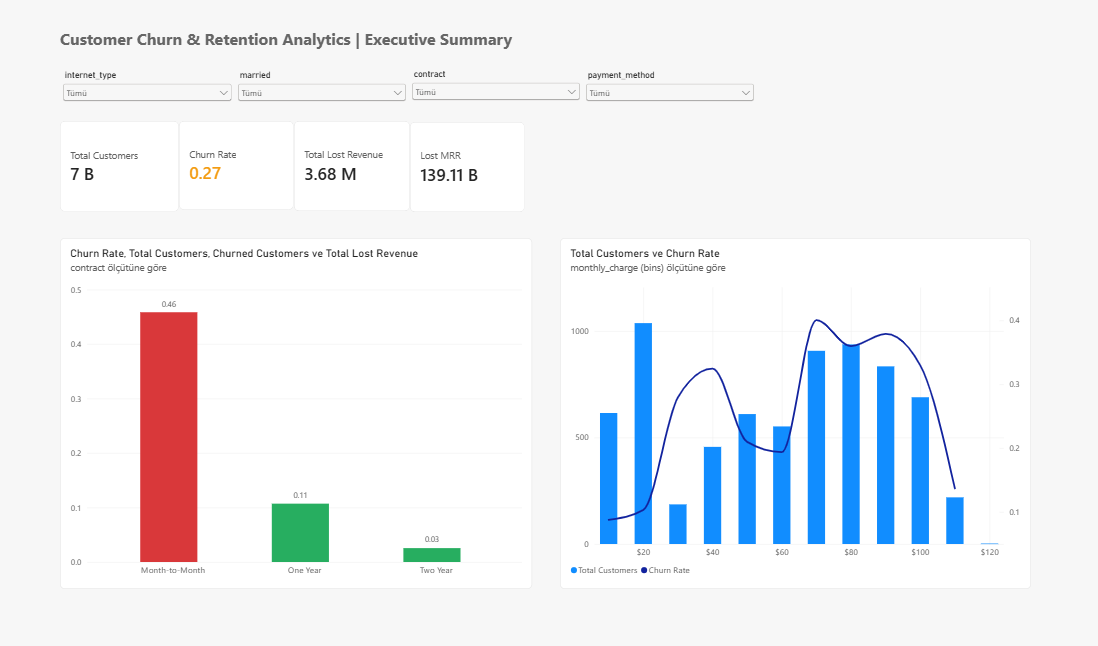

Layout of this report page (visuals, bound fields, positions):
{"tool":"powerbi","page":{"name":"Executive KPI Summary","canvas":[1920,1080],"ordinal":0},"visuals":[{"type":"textbox","box":[106.7,49.1,787.3,57.6],"z":0},{"type":"slicer","fields":{"Values":["public vw_powerbi_telecom_model.contract"]},"box":[688.3,116.7,289.5,86.3],"z":1},{"type":"slicer","fields":{"Values":["public vw_powerbi_telecom_model.internet_type"]},"box":[106.7,118.3,291.2,84.7],"z":2},{"type":"slicer","fields":{"Values":["public vw_powerbi_telecom_model.payment_method"]},"box":[978.3,118.3,290,93.3],"z":3},{"type":"slicer","fields":{"Values":["public vw_powerbi_telecom_model.married"]},"box":[398.3,118.3,289.5,93.1],"z":4},{"type":"cardVisual","fields":{"Data":["_Measures.Total Customers"]},"box":[106.7,203.3,198.3,151.7],"z":5},{"type":"cardVisual","fields":{"Data":["_Measures.Total Lost Revenue"]},"box":[496.7,203.3,193,150.7],"z":6},{"type":"cardVisual","fields":{"Data":["_Measures.Churn Rate"]},"box":[304.7,203.7,191.3,149],"z":7},{"type":"cardVisual","fields":{"Data":["_Measures.Lost MRR"]},"box":[690,205,191.3,150.7],"z":8},{"type":"columnChart","fields":{"Category":["public vw_powerbi_telecom_model.contract"],"Y":["_Measures.Churn Rate"]},"box":[106.7,398.3,786.7,585],"z":9},{"type":"lineStackedColumnComboChart","fields":{"Category":["public vw_powerbi_telecom_model.monthly_charge (bins)"],"Y":["_Measures.Total Customers"],"Y2":["_Measures.Churn Rate"]},"box":[940,398.3,785,585],"z":10}]}

Visuals, with their boxes on the page's 1920x1080 design canvas (x1, y1, x2, y2). These are canvas units, not pixel positions in the 1098x646 screenshot, which may show the page scaled, cropped or inside an application window:
textbox: (x1=107, y1=49, x2=894, y2=107)
slicer - public vw_powerbi_telecom_model.contract: (x1=688, y1=117, x2=978, y2=203)
slicer - public vw_powerbi_telecom_model.internet_type: (x1=107, y1=118, x2=398, y2=203)
slicer - public vw_powerbi_telecom_model.payment_method: (x1=978, y1=118, x2=1268, y2=212)
slicer - public vw_powerbi_telecom_model.married: (x1=398, y1=118, x2=688, y2=211)
cardVisual - _Measures.Total Customers: (x1=107, y1=203, x2=305, y2=355)
cardVisual - _Measures.Total Lost Revenue: (x1=497, y1=203, x2=690, y2=354)
cardVisual - _Measures.Churn Rate: (x1=305, y1=204, x2=496, y2=353)
cardVisual - _Measures.Lost MRR: (x1=690, y1=205, x2=881, y2=356)
columnChart - public vw_powerbi_telecom_model.contract x _Measures.Churn Rate: (x1=107, y1=398, x2=893, y2=983)
lineStackedColumnComboChart - public vw_powerbi_telecom_model.monthly_charge (bins) x _Measures.Total Customers: (x1=940, y1=398, x2=1725, y2=983)
